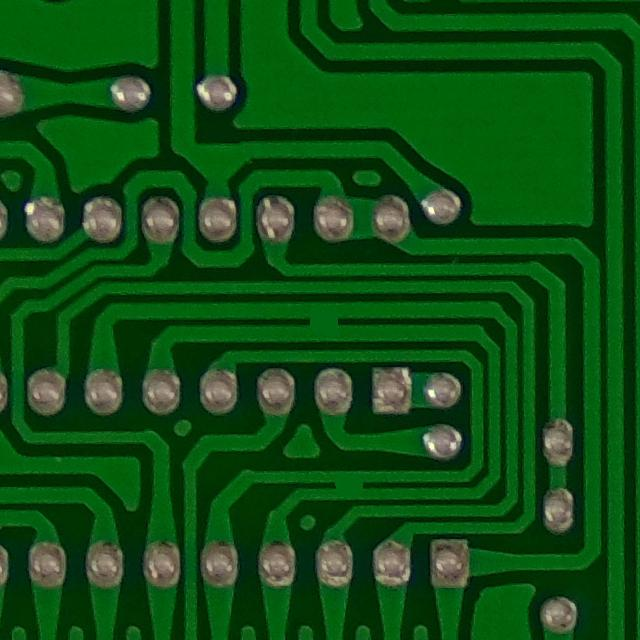short: (288, 297, 352, 344)
